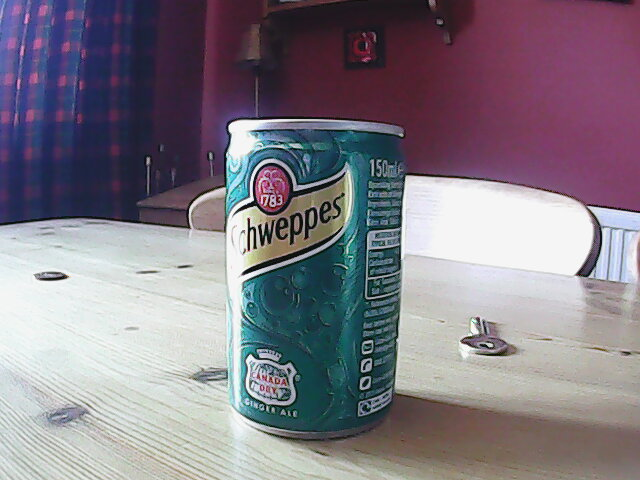Can: (217, 117, 409, 444)
Coin: (31, 268, 68, 281)
Key: (457, 312, 513, 360)
